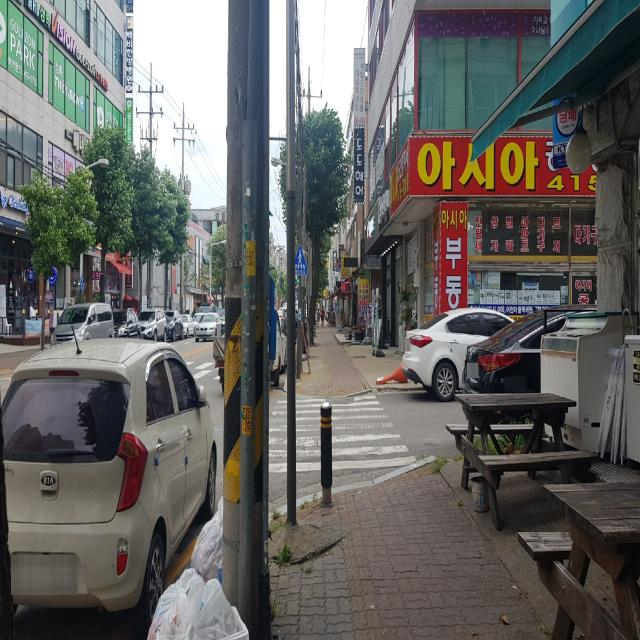횡단보도: (268, 394, 418, 474)
